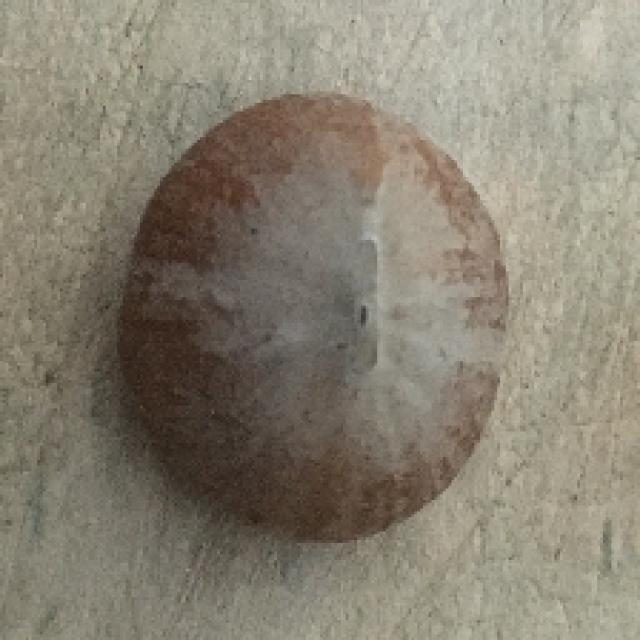qualityHazelnut: (104, 83, 536, 543)
